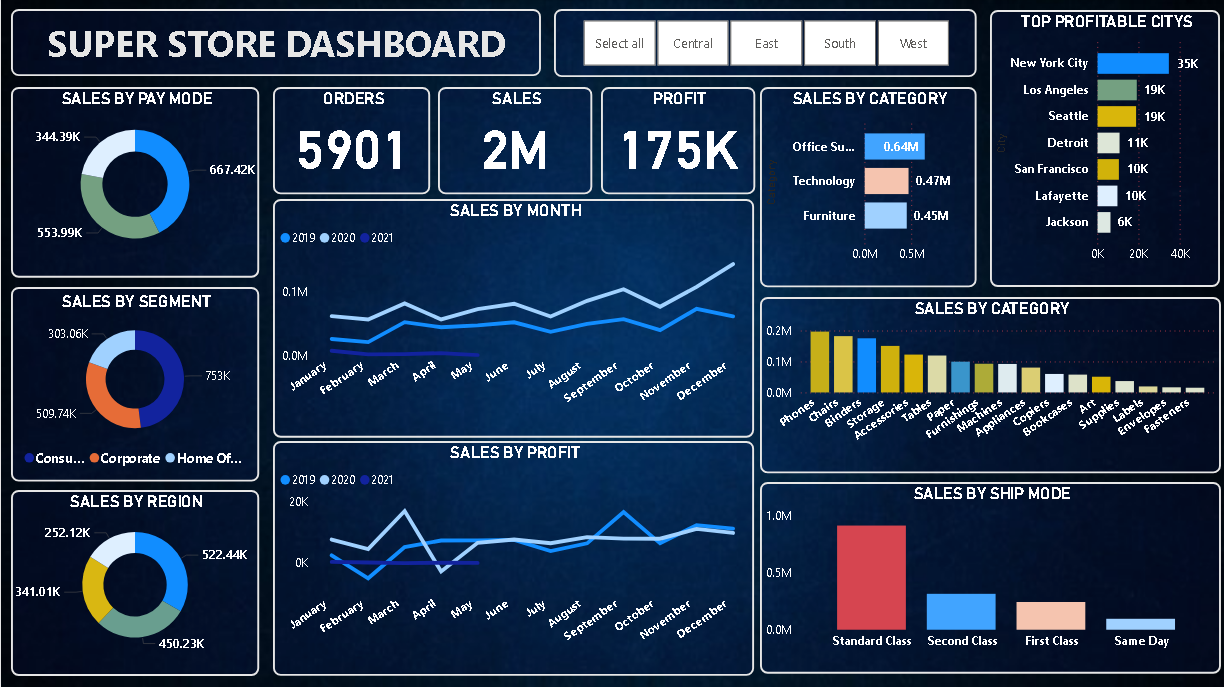

Layout of this report page (visuals, bound fields, positions):
{"tool":"powerbi","page":{"name":"Page 1","canvas":[1280,720],"ordinal":0},"visuals":[{"type":"textbox","box":[10.7,10.7,552.7,70.4],"z":0},{"type":"slicer","fields":{"Values":["SuperStore_Sales_Dataset.Region"]},"box":[577.5,10.2,441.1,71.4],"z":1000},{"type":"donutChart","title":"SALES BY PAY MODE","fields":{"Y":["Sum(SuperStore_Sales_Dataset.Sales)"],"Category":["SuperStore_Sales_Dataset.Payment Mode"]},"box":[10.2,91.8,258.8,198.9],"z":2000},{"type":"donutChart","title":"SALES BY SEGMENT","fields":{"Y":["Sum(SuperStore_Sales_Dataset.Sales)"],"Category":["SuperStore_Sales_Dataset.Segment"]},"box":[10.2,300.9,258.8,202.7],"z":3000},{"type":"donutChart","title":"SALES BY REGION","fields":{"Y":["Sum(SuperStore_Sales_Dataset.Sales)"],"Category":["SuperStore_Sales_Dataset.Region"]},"box":[10.2,512.5,258.8,193.8],"z":4000},{"type":"card","title":"ORDERS","fields":{"Values":["CountNonNull(SuperStore_Sales_Dataset.Order ID)"]},"box":[284.3,91.8,164.5,112.2],"z":5000},{"type":"card","title":"SALES","fields":{"Values":["Sum(SuperStore_Sales_Dataset.Sales)"]},"box":[456.4,91.8,160.6,112.2],"z":6000},{"type":"card","title":"PROFIT","fields":{"Values":["Sum(SuperStore_Sales_Dataset.Profit)"]},"box":[626,91.8,160.6,112.2],"z":7000},{"type":"lineChart","title":"SALES BY PROFIT","fields":{"Y":["Sum(SuperStore_Sales_Dataset.Profit)"],"Category":["SuperStore_Sales_Dataset.Ship Date.Variation.Date Hierarchy.Month"],"Series":["SuperStore_Sales_Dataset.Ship Date.Variation.Date Hierarchy.Year"]},"box":[284.3,461.5,502.3,244.8],"z":8000},{"type":"lineChart","title":"SALES BY MONTH","fields":{"Y":["Sum(SuperStore_Sales_Dataset.Sales)"],"Category":["SuperStore_Sales_Dataset.Ship Date.Variation.Date Hierarchy.Month"],"Series":["SuperStore_Sales_Dataset.Ship Date.Variation.Date Hierarchy.Year"]},"box":[284.3,209.1,502.3,248.6],"z":9000},{"type":"clusteredBarChart","title":"TOP PROFITABLE CITYS","fields":{"Category":["SuperStore_Sales_Dataset.City"],"Y":["Sum(SuperStore_Sales_Dataset.Profit)"]},"box":[1032,11.5,240,289],"z":10000},{"type":"clusteredColumnChart","title":"SALES BY SHIP MODE","fields":{"Y":["Sum(SuperStore_Sales_Dataset.Sales)"],"Category":["SuperStore_Sales_Dataset.Ship Mode"]},"box":[791.7,503.6,480.6,200.2],"z":11000},{"type":"barChart","title":"SALES BY CATEGORY","fields":{"Category":["SuperStore_Sales_Dataset.Category"],"Y":["Sum(SuperStore_Sales_Dataset.Sales)"]},"box":[792,91.8,226.4,208.7],"z":12000},{"type":"columnChart","title":"SALES BY CATEGORY","fields":{"Category":["SuperStore_Sales_Dataset.Sub-Category"],"Y":["Sum(SuperStore_Sales_Dataset.Sales)"]},"box":[791.7,311.1,480.6,183.6],"z":13000}]}

Visuals, with their boxes in screenshot pixels (x1, y1, x2, y2), scaled from the page's 1280x720 canvas onto the 1224x687 screenshot:
textbox: (10, 10, 539, 77)
slicer - SuperStore_Sales_Dataset.Region: (552, 10, 974, 78)
"SALES BY PAY MODE" donutChart: (10, 88, 257, 277)
"SALES BY SEGMENT" donutChart: (10, 287, 257, 481)
"SALES BY REGION" donutChart: (10, 489, 257, 674)
"ORDERS" card: (272, 88, 429, 195)
"SALES" card: (436, 88, 590, 195)
"PROFIT" card: (599, 88, 752, 195)
"SALES BY PROFIT" lineChart: (272, 440, 752, 674)
"SALES BY MONTH" lineChart: (272, 200, 752, 437)
"TOP PROFITABLE CITYS" clusteredBarChart: (987, 11, 1216, 287)
"SALES BY SHIP MODE" clusteredColumnChart: (757, 481, 1217, 672)
"SALES BY CATEGORY" barChart: (757, 88, 974, 287)
"SALES BY CATEGORY" columnChart: (757, 297, 1217, 472)
